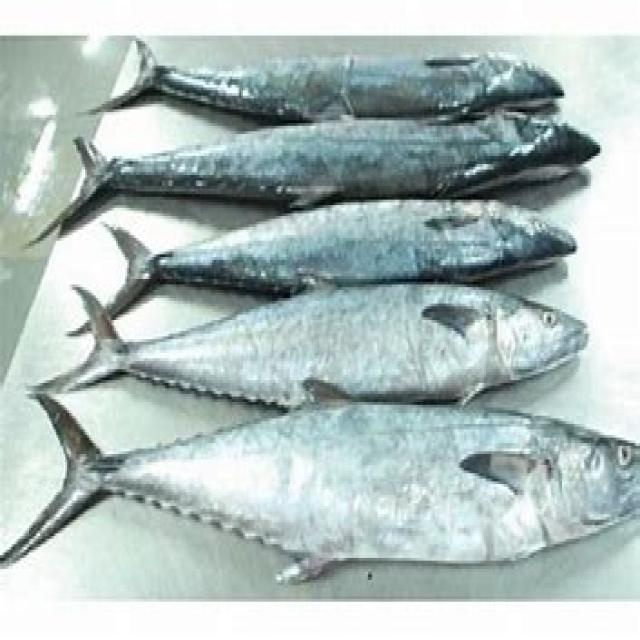seer: (0, 378, 638, 587)
